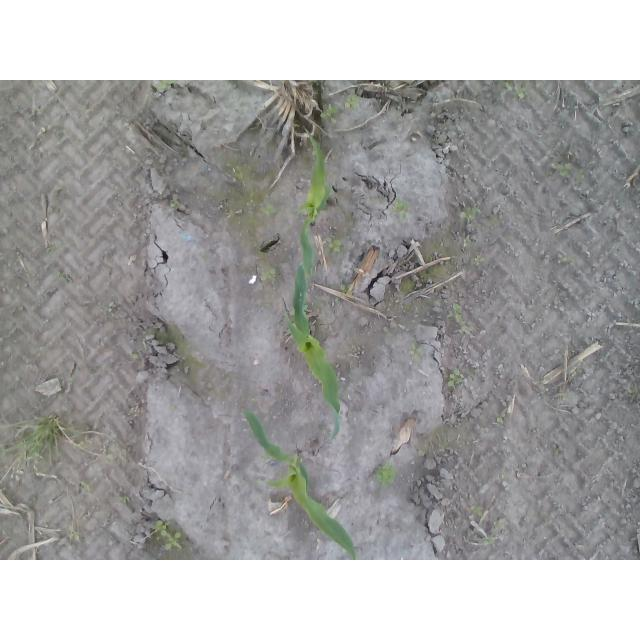Maize: (243, 408, 358, 561), (282, 261, 343, 441), (298, 125, 330, 284)
Weeds: (154, 520, 183, 551), (549, 160, 588, 183), (450, 303, 475, 338), (245, 200, 276, 225), (371, 460, 394, 485), (318, 100, 338, 124), (502, 80, 527, 98), (389, 198, 409, 220), (335, 283, 354, 305), (457, 206, 481, 223), (447, 364, 464, 388), (406, 343, 426, 362), (231, 162, 253, 178), (556, 252, 577, 268), (151, 80, 178, 92), (259, 265, 277, 282), (326, 238, 344, 253), (11, 466, 26, 483), (225, 208, 239, 225), (78, 479, 90, 498), (345, 96, 360, 111), (70, 530, 82, 545), (470, 503, 482, 517), (472, 254, 485, 266), (49, 271, 64, 281), (494, 519, 507, 530), (120, 494, 131, 506), (46, 245, 58, 255), (38, 127, 49, 137), (103, 303, 113, 314), (168, 199, 178, 210), (483, 536, 495, 544), (463, 237, 472, 247), (129, 352, 141, 359), (496, 415, 504, 424)
